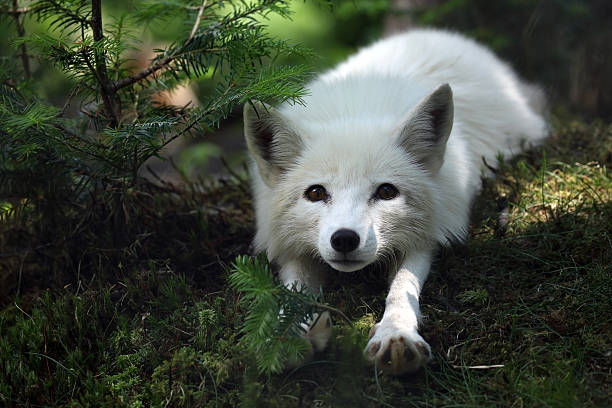arcticfox: (274, 133, 419, 276)
